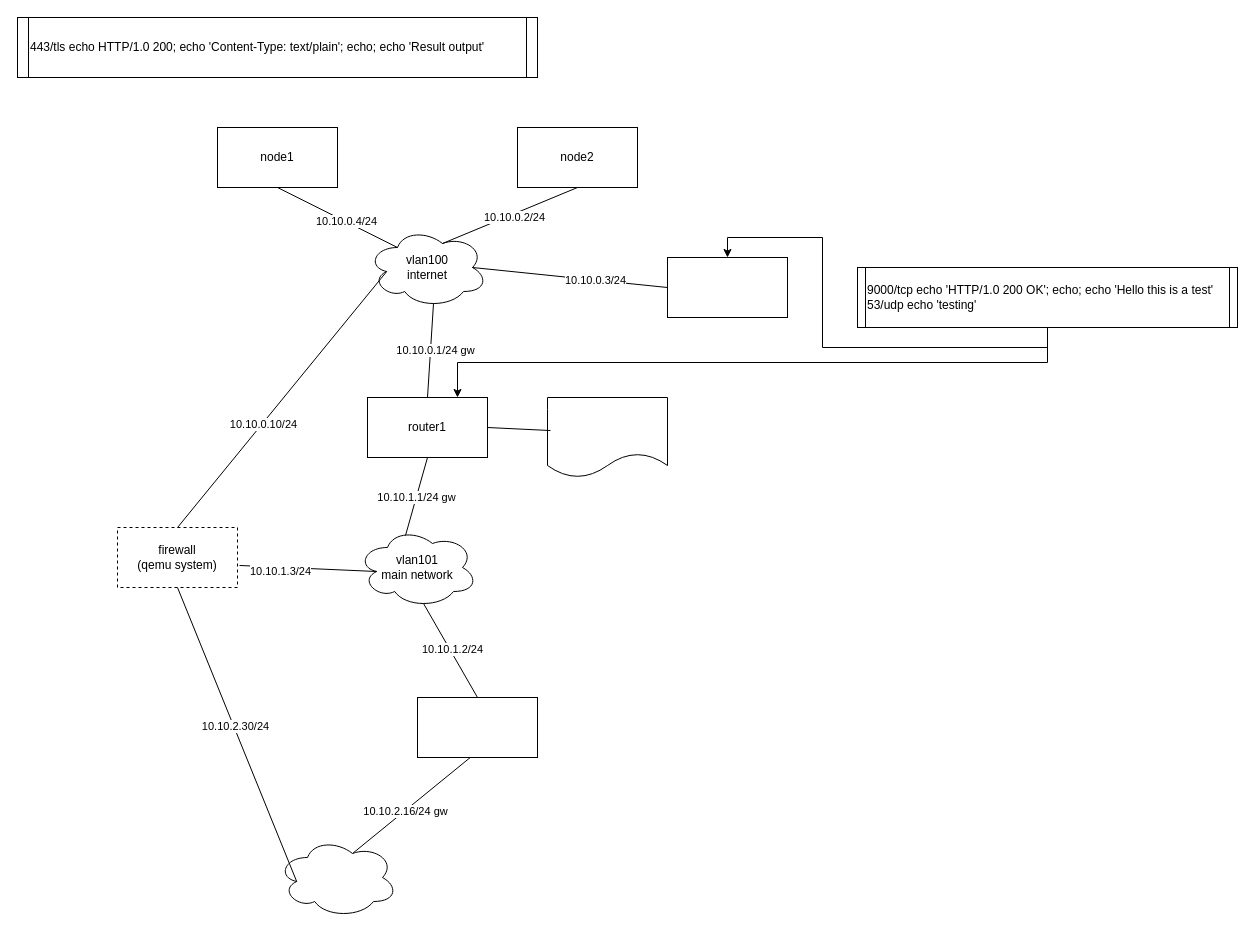
Image size: 1255x935. Some labels were removed from this diagram. Here are the shapes that lost their labels. From the top down, the box of each, then its label:
(666, 256, 788, 318): node3
(546, 396, 668, 478): 10.10.2.0/24 via 10.10.1.2 default via 10.10.1.2
(416, 696, 538, 758): client1 (workstation)
(276, 836, 398, 918): vlan102 workstation network
